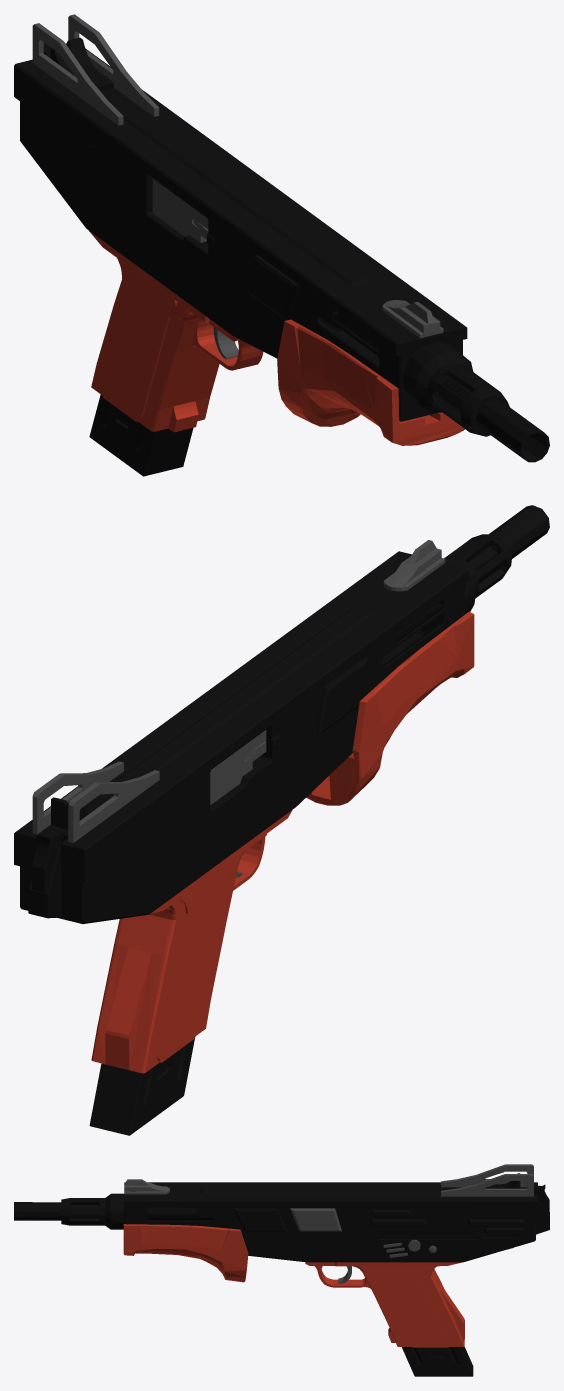
The model's file is mag-7.obj.
The picture shows the model from 3 angles, top to bottom: view 1: azimuth 30°, elevation 25°; view 2: azimuth 150°, elevation 25°; view 3: azimuth 270°, elevation 25°; orthographic projection. The views are drawn at different scales.
Parts seen in each view (by area): view 1: poignee_mag-7.023, culasse_mag-7.038, chargeur_mag-7.040; view 2: poignee_mag-7.023, culasse_mag-7.038, chargeur_mag-7.040; view 3: poignee_mag-7.023, culasse_mag-7.038, chargeur_mag-7.040.
Part boxes in pixels (box(x1,y1,x2,y2)): poignee_mag-7.023: box(14, 14, 549, 462); culasse_mag-7.038: box(277, 319, 464, 445); chargeur_mag-7.040: box(89, 394, 193, 476); poignee_mag-7.023: box(14, 505, 549, 1073); culasse_mag-7.038: box(306, 611, 474, 805); chargeur_mag-7.040: box(89, 1038, 194, 1135); poignee_mag-7.023: box(14, 1164, 549, 1347); culasse_mag-7.038: box(123, 1224, 248, 1282); chargeur_mag-7.040: box(402, 1347, 473, 1376).
Bounding box in the file's own units: 0.2449 × 1.06 × 2.57.
